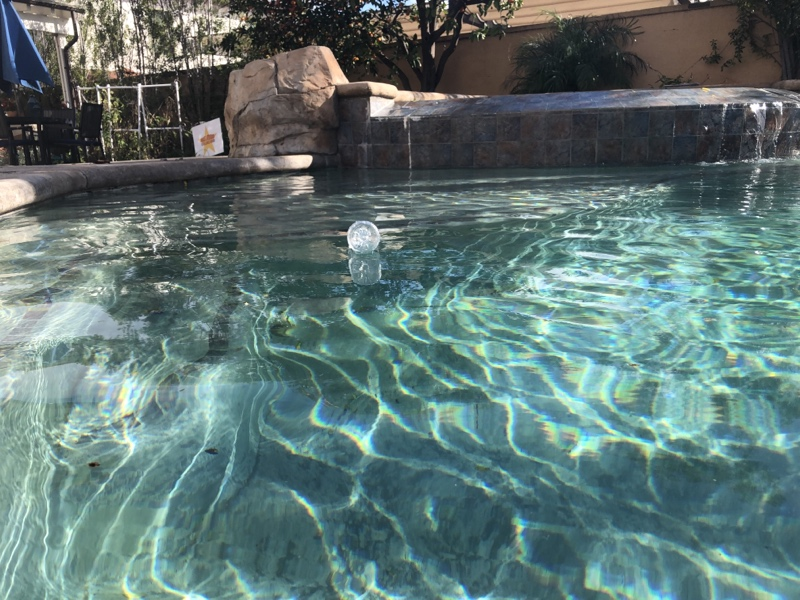Plastic Bottle: (347, 221, 381, 255)
